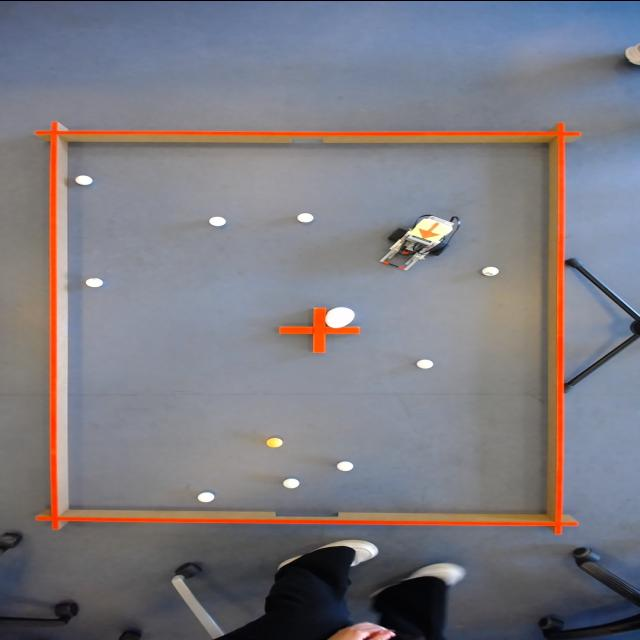cross: (273, 306, 358, 355)
egg: (323, 306, 358, 328)
orange_ball: (262, 436, 286, 448)
robot: (408, 214, 460, 243)
white_ball: (414, 356, 438, 371), (293, 210, 317, 224), (72, 172, 96, 186), (334, 459, 359, 472), (478, 264, 502, 276), (206, 214, 228, 227), (196, 490, 218, 502), (85, 276, 105, 288), (282, 477, 302, 489)
